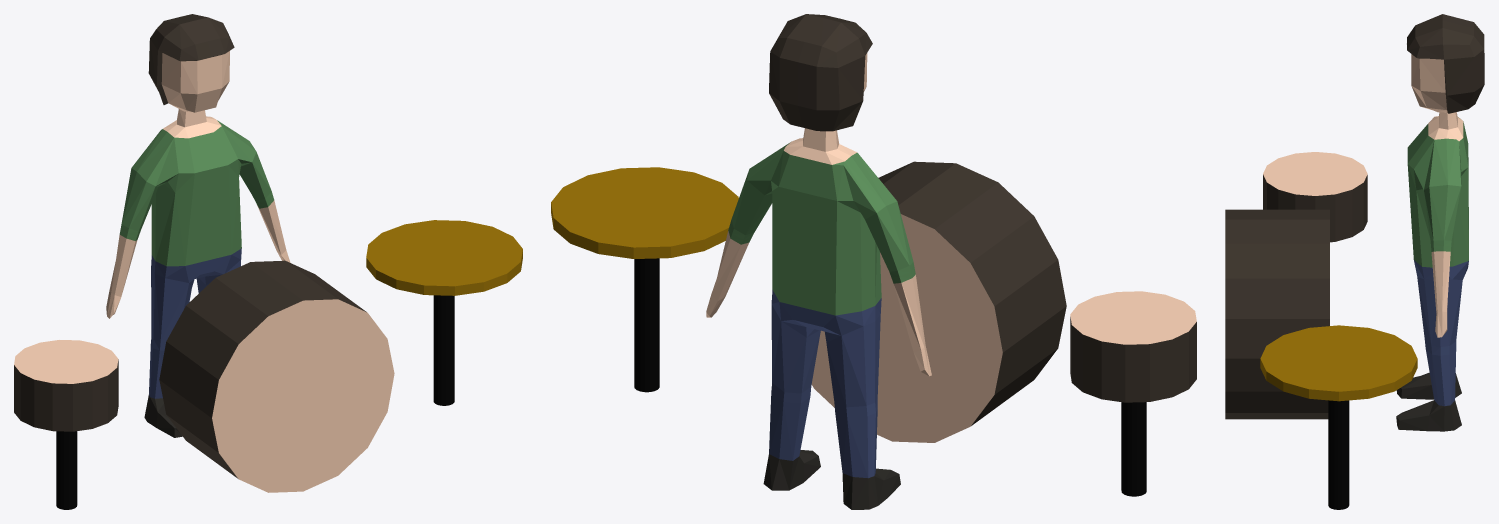
Rendered from opponent.obj.
3 renders of one model, left to right at view 1: azimuth 30°, elevation 25°; view 2: azimuth 150°, elevation 25°; view 3: azimuth 270°, elevation 25°, orthographic. The views are drawn at different scales.
Visible parts, largest first — view 1: Cylinder.003; view 2: Cylinder.003; view 3: Cylinder.003.
Part boxes in pixels (x1,y1,x2,y2): Cylinder.003: (14, 14, 522, 509); Cylinder.003: (551, 14, 1196, 509); Cylinder.003: (1225, 14, 1484, 509).
Size of the model in its own units: 5.52 by 4.09 by 2.48.
